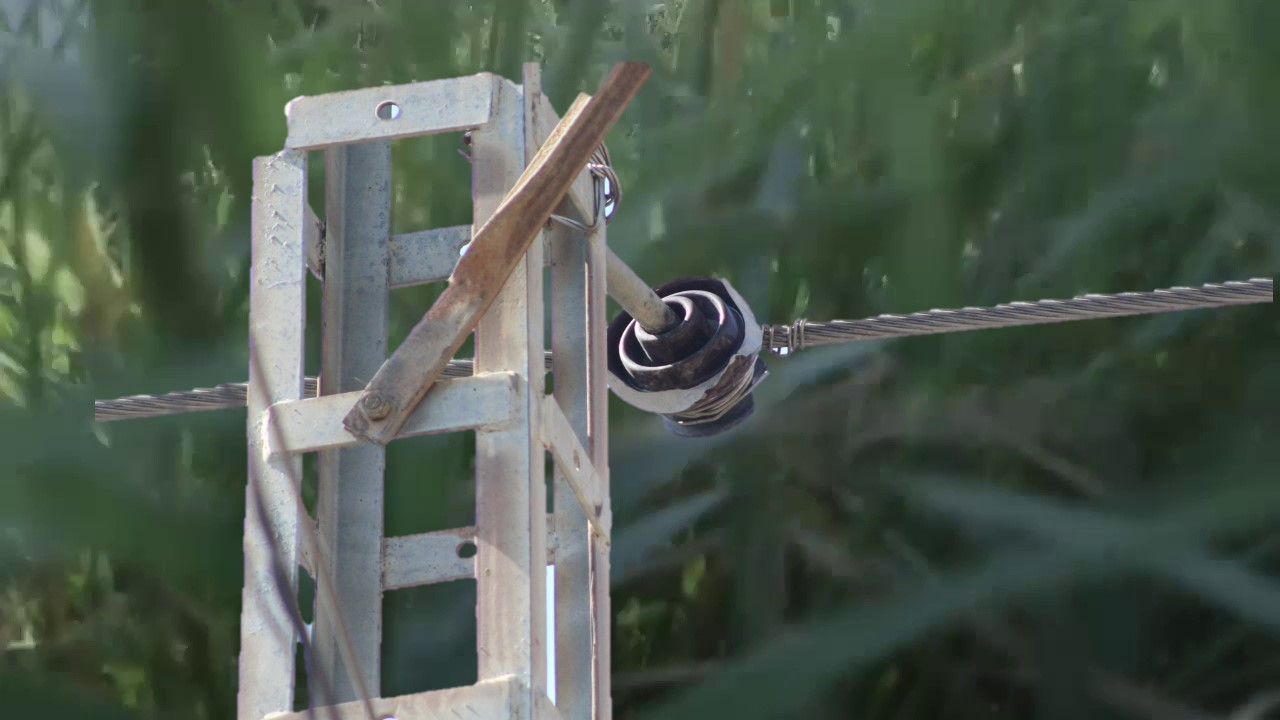defect_pin: (604, 266, 768, 450)
